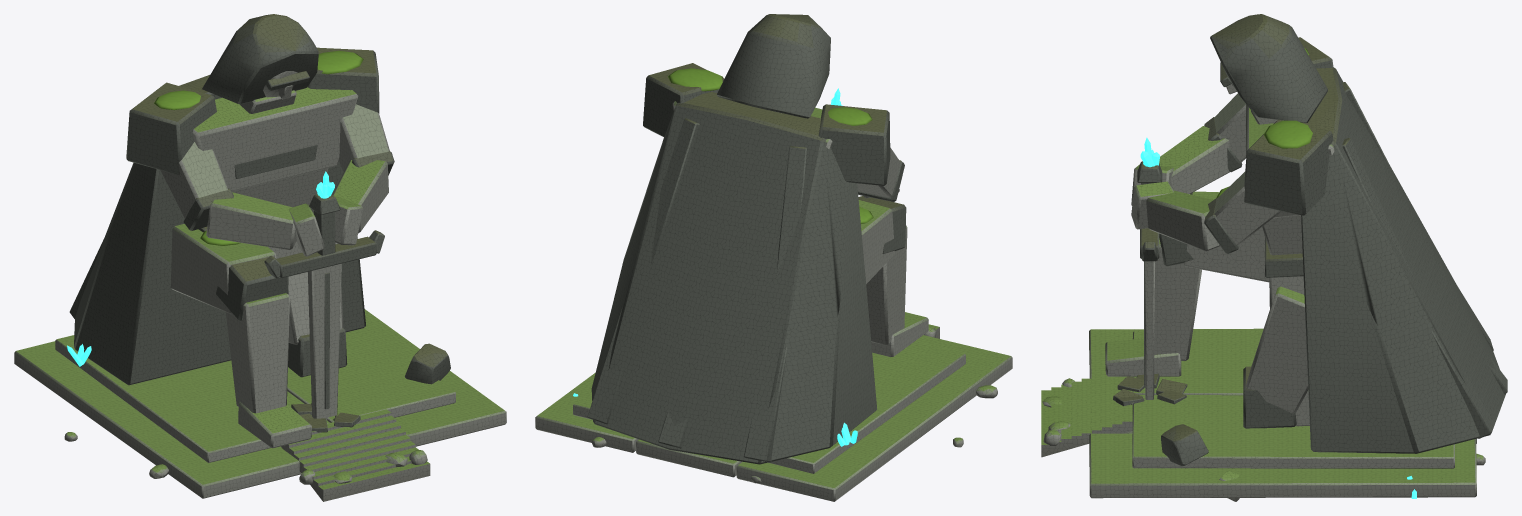
Rendered from landmark_kneeling_giant.glb.
The picture shows the model from 3 angles, left to right: view 1: azimuth 30°, elevation 25°; view 2: azimuth 150°, elevation 25°; view 3: azimuth 270°, elevation 25°; orthographic projection. The views are drawn at different scales.
Visible parts, largest first — view 1: landmark_kneeling_giant; view 2: landmark_kneeling_giant; view 3: landmark_kneeling_giant.
Boxes of the visible parts, <box> form: landmark_kneeling_giant: <box>14,14,506,501</box>; landmark_kneeling_giant: <box>535,14,1012,501</box>; landmark_kneeling_giant: <box>1041,14,1507,501</box>.
Size of what is drawn, in the model's own units: 45.17 by 48.53 by 49.92.
Materials: 6 (4 with a texture image).
